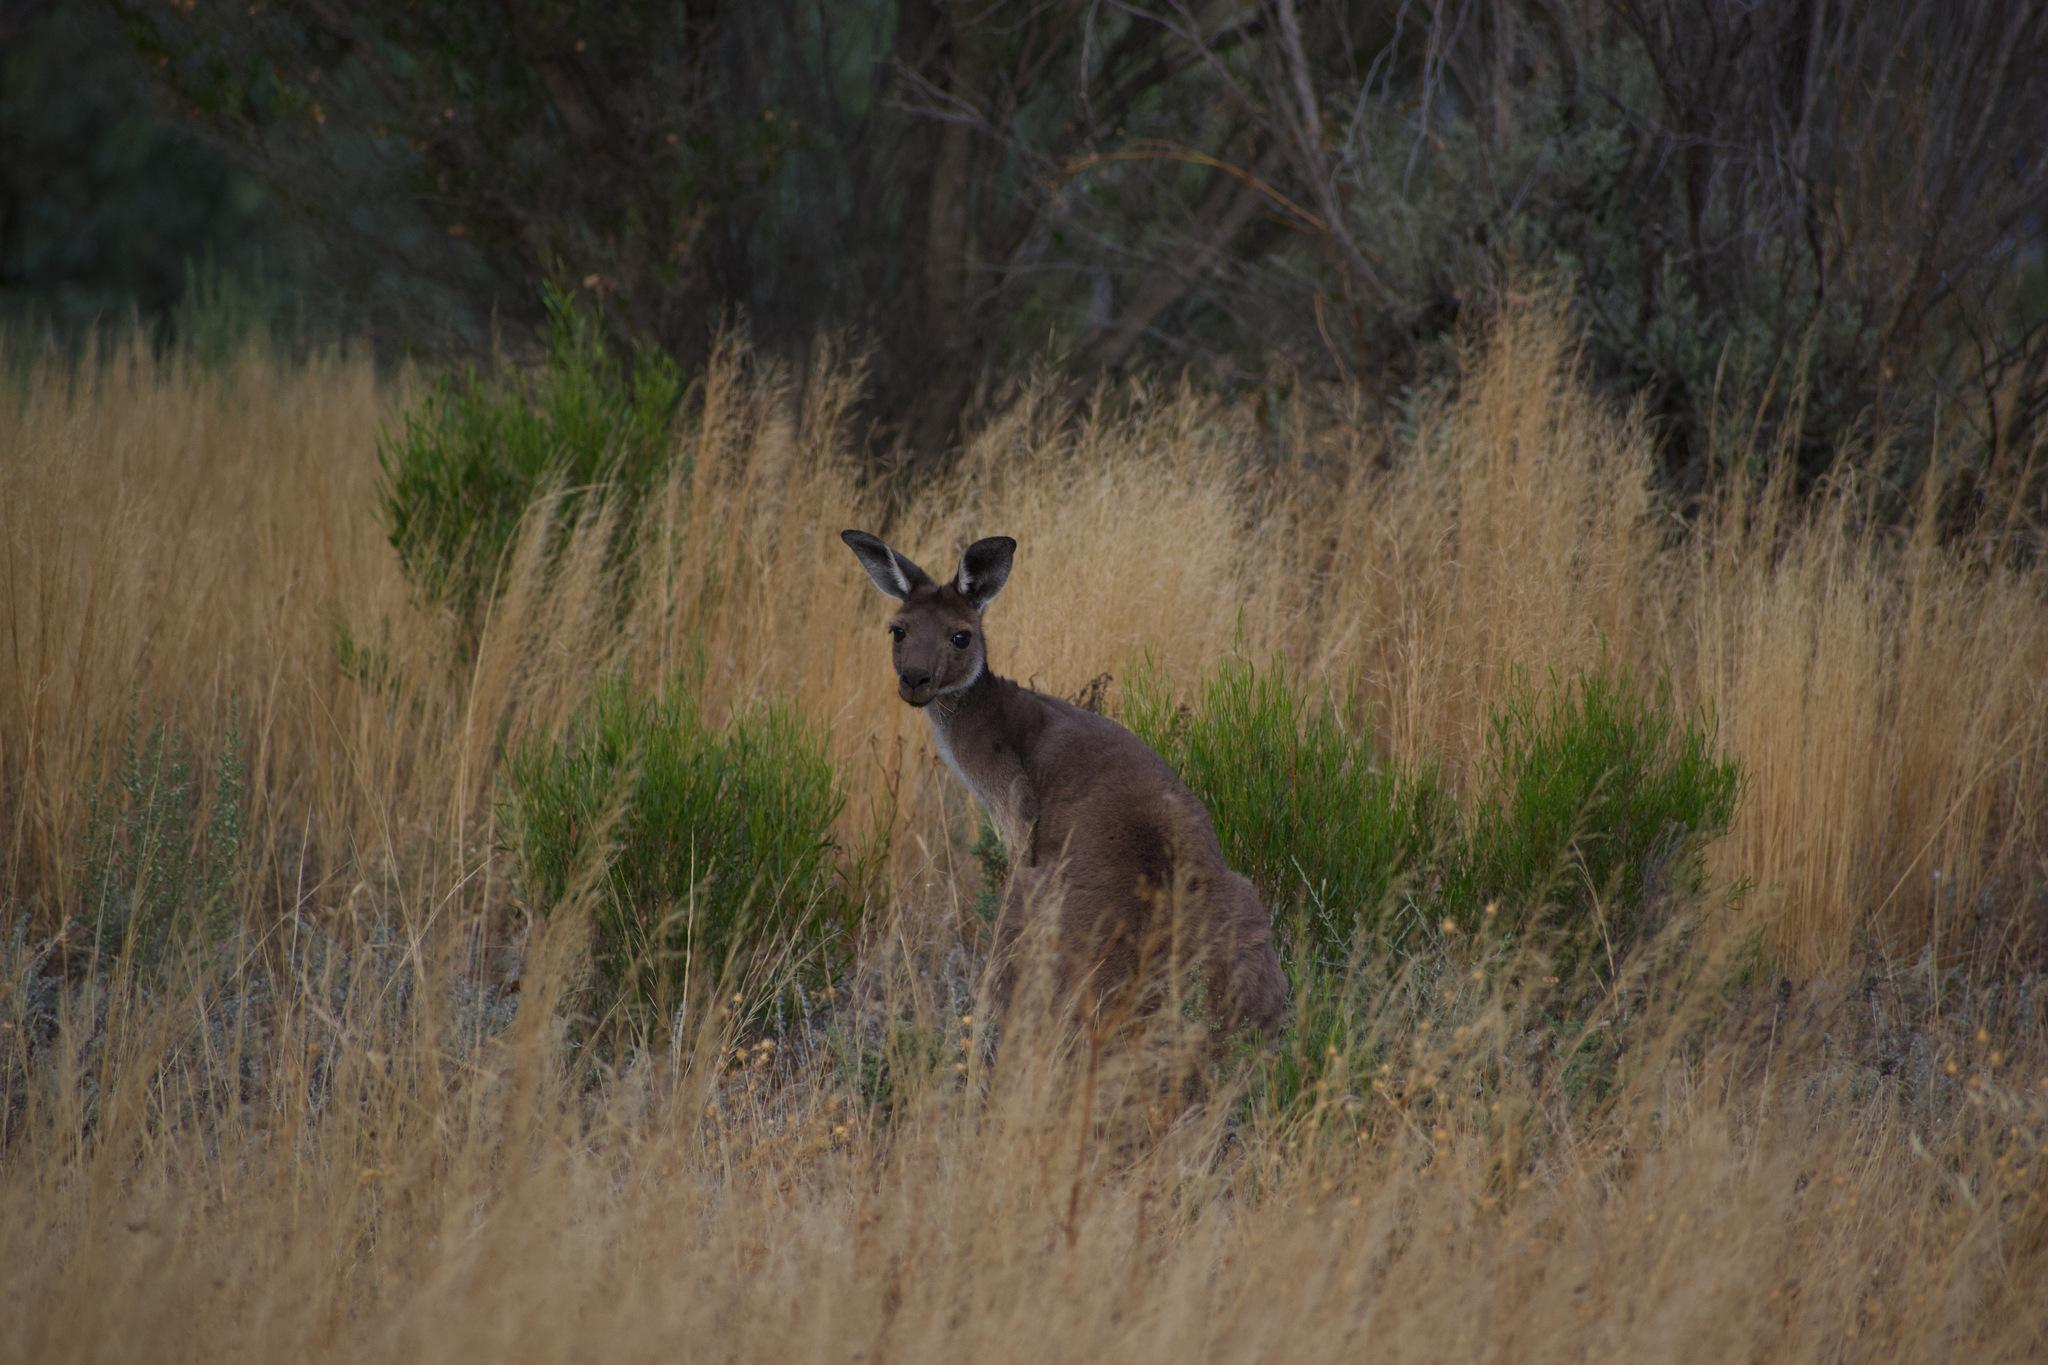Western grey kangaroo: (851, 538, 1314, 1127)
